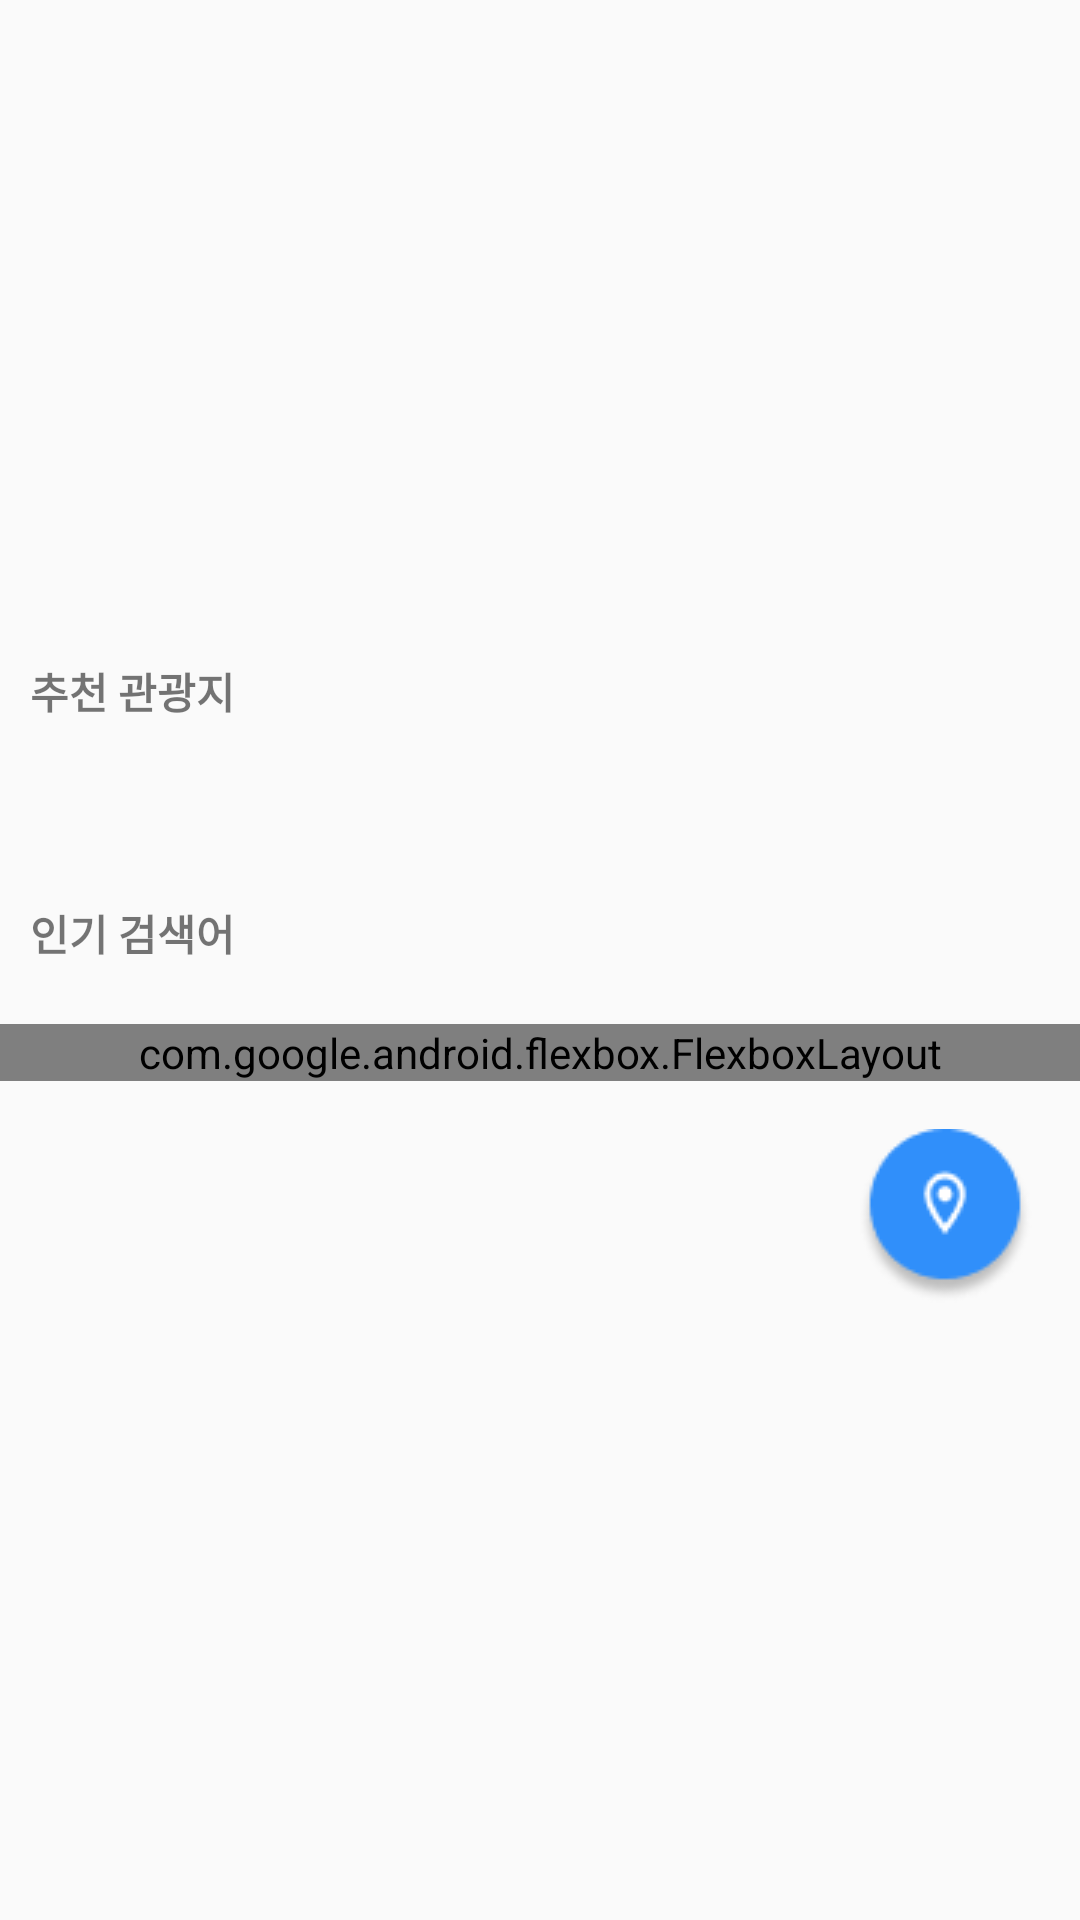

Locate icon controls on the screen. Image size 1080px×1920px, boxes as (x1, y1, x2, y2).
location: (869, 1129, 1021, 1292)
